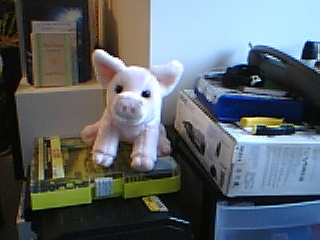piggy: (80, 48, 184, 173)
